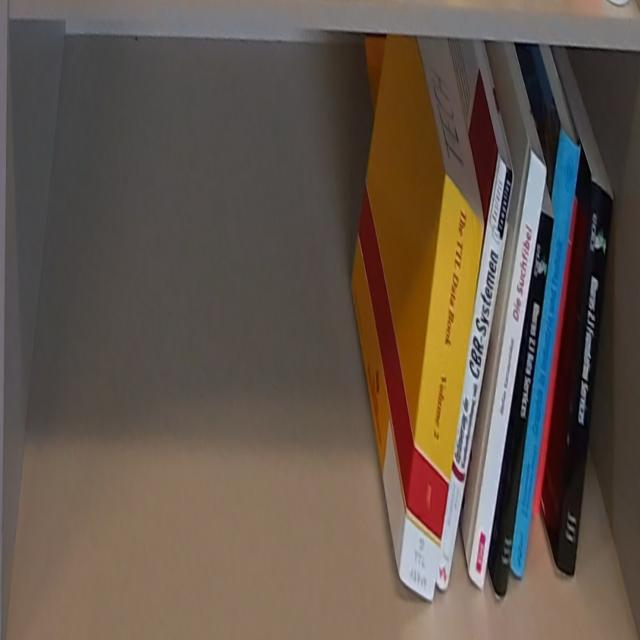Book Spine: (398, 175, 484, 603), (468, 150, 548, 597), (436, 157, 514, 595), (510, 127, 582, 582), (493, 209, 555, 601), (557, 179, 614, 582)
